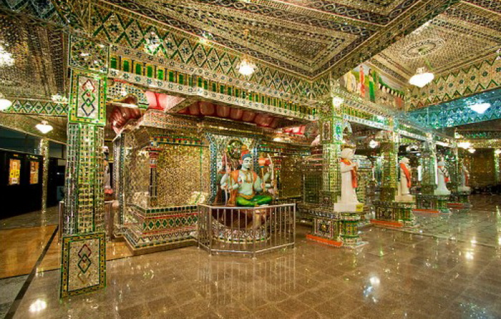Hindu Temple: (205, 138, 265, 220)
